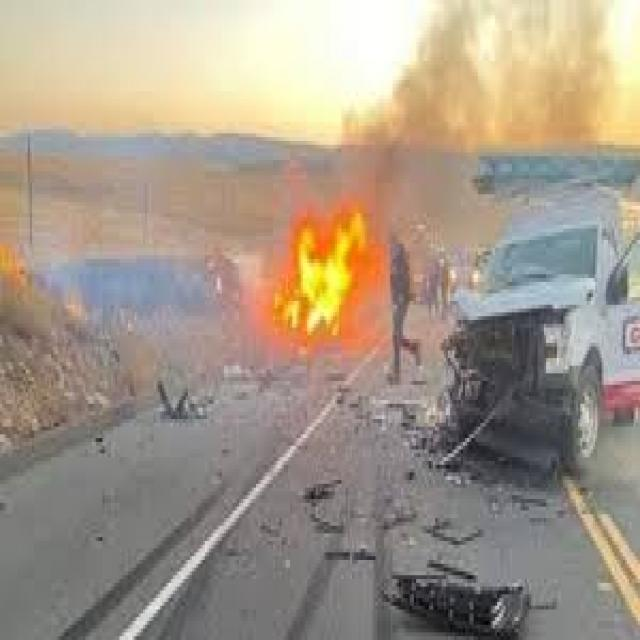fire: (267, 206, 384, 343)
smoke: (303, 4, 640, 206)
